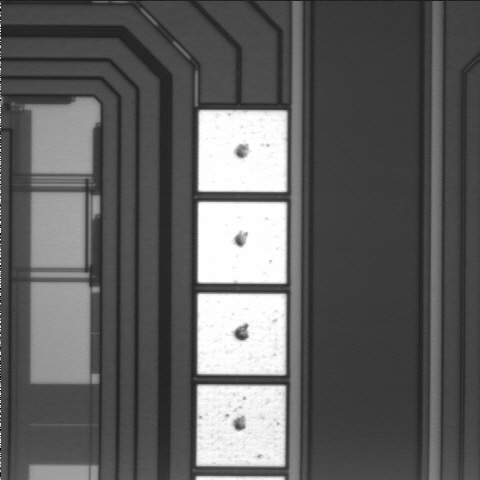pad: (198, 110, 287, 192), (198, 202, 287, 284), (197, 293, 286, 375), (197, 385, 286, 466)
